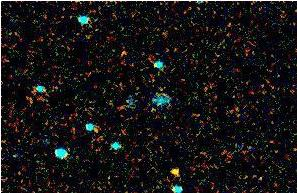star: (161, 155, 191, 185)
